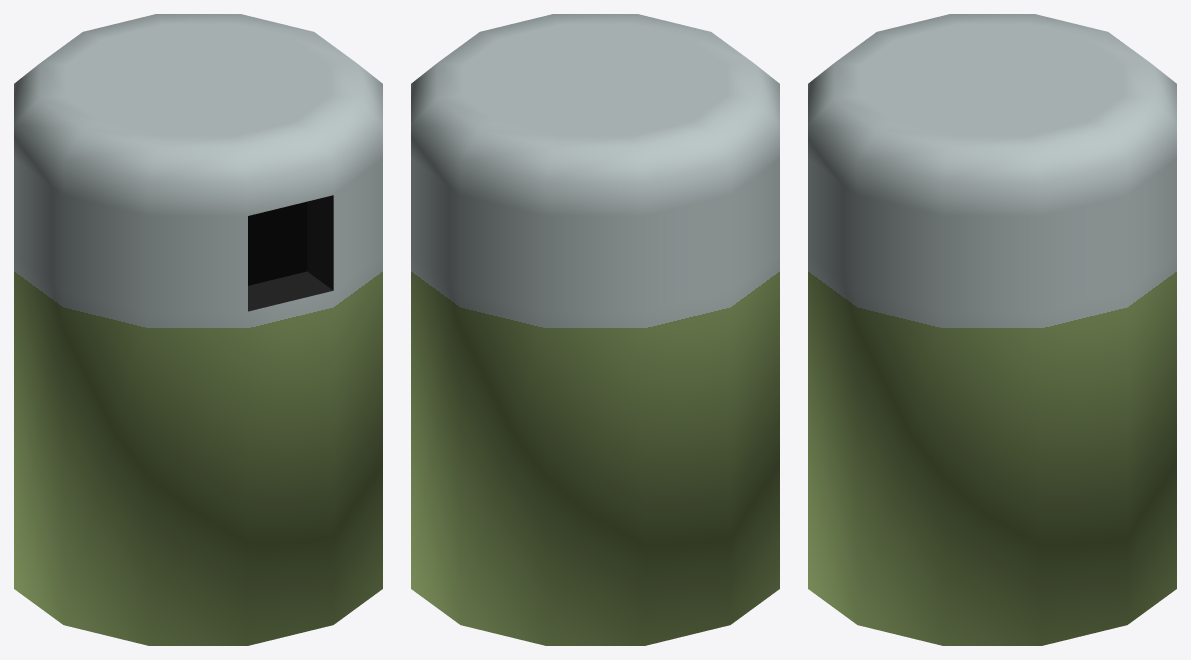
The picture shows the model from 3 angles, left to right: view 1: azimuth 30°, elevation 25°; view 2: azimuth 150°, elevation 25°; view 3: azimuth 270°, elevation 25°; orthographic projection.
Visible parts, largest first — view 1: cylinder, opening; view 2: cylinder; view 3: cylinder.
Boxes of the visible parts, x1,y1,x2,y2 form: cylinder: [14, 14, 382, 645]; opening: [248, 195, 333, 311]; cylinder: [411, 14, 779, 645]; cylinder: [808, 14, 1176, 645].
Size of the model in its own units: 0.4375 by 0.6375 by 0.4375.
1 material, 1 textured.
